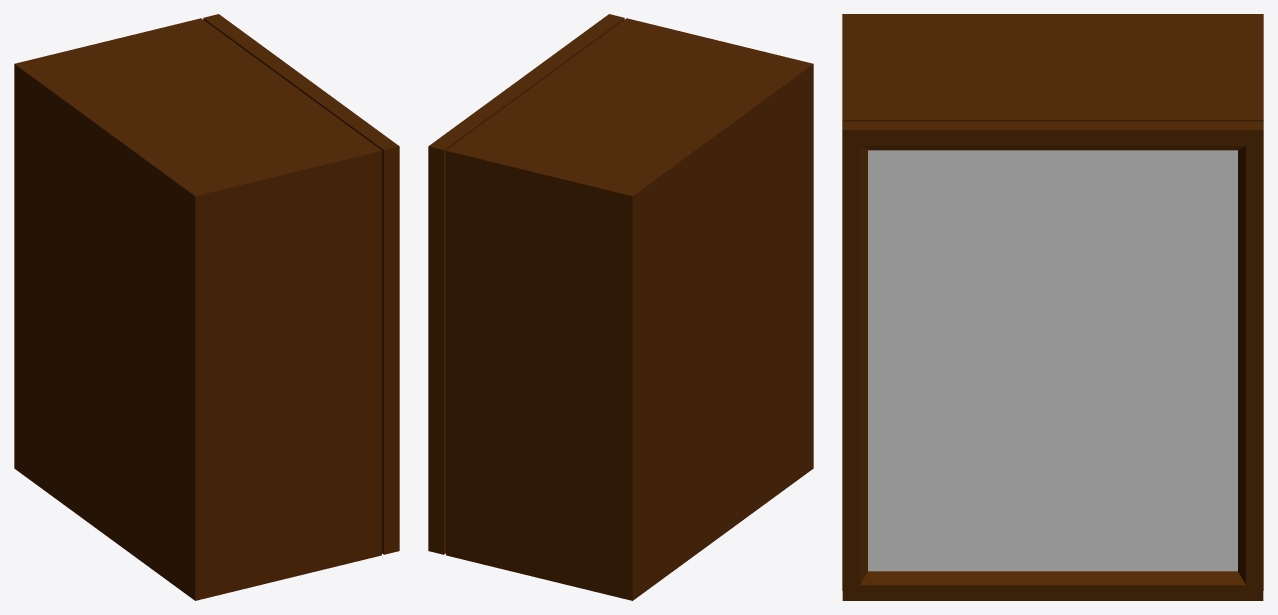
File: bathroomcuppoard.fbx
The picture shows the model from 3 angles, left to right: view 1: azimuth 30°, elevation 25°; view 2: azimuth 150°, elevation 25°; view 3: azimuth 270°, elevation 25°; orthographic projection. The views are drawn at different scales.
Parts seen in each view (by area): view 1: Drawer, Mirrorframe; view 2: Drawer, Mirrorframe; view 3: Mirror, Mirrorframe, Drawer.
Boxes of the visible parts, <box> form: Drawer: <box>14,18,381,600</box>; Mirrorframe: <box>203,14,399,554</box>; Drawer: <box>446,18,813,600</box>; Mirrorframe: <box>428,14,624,554</box>; Mirror: <box>868,150,1237,571</box>; Mirrorframe: <box>842,121,1263,600</box>; Drawer: <box>842,14,1263,590</box>.
Size of the model in its own units: 106 by 200 by 162.
